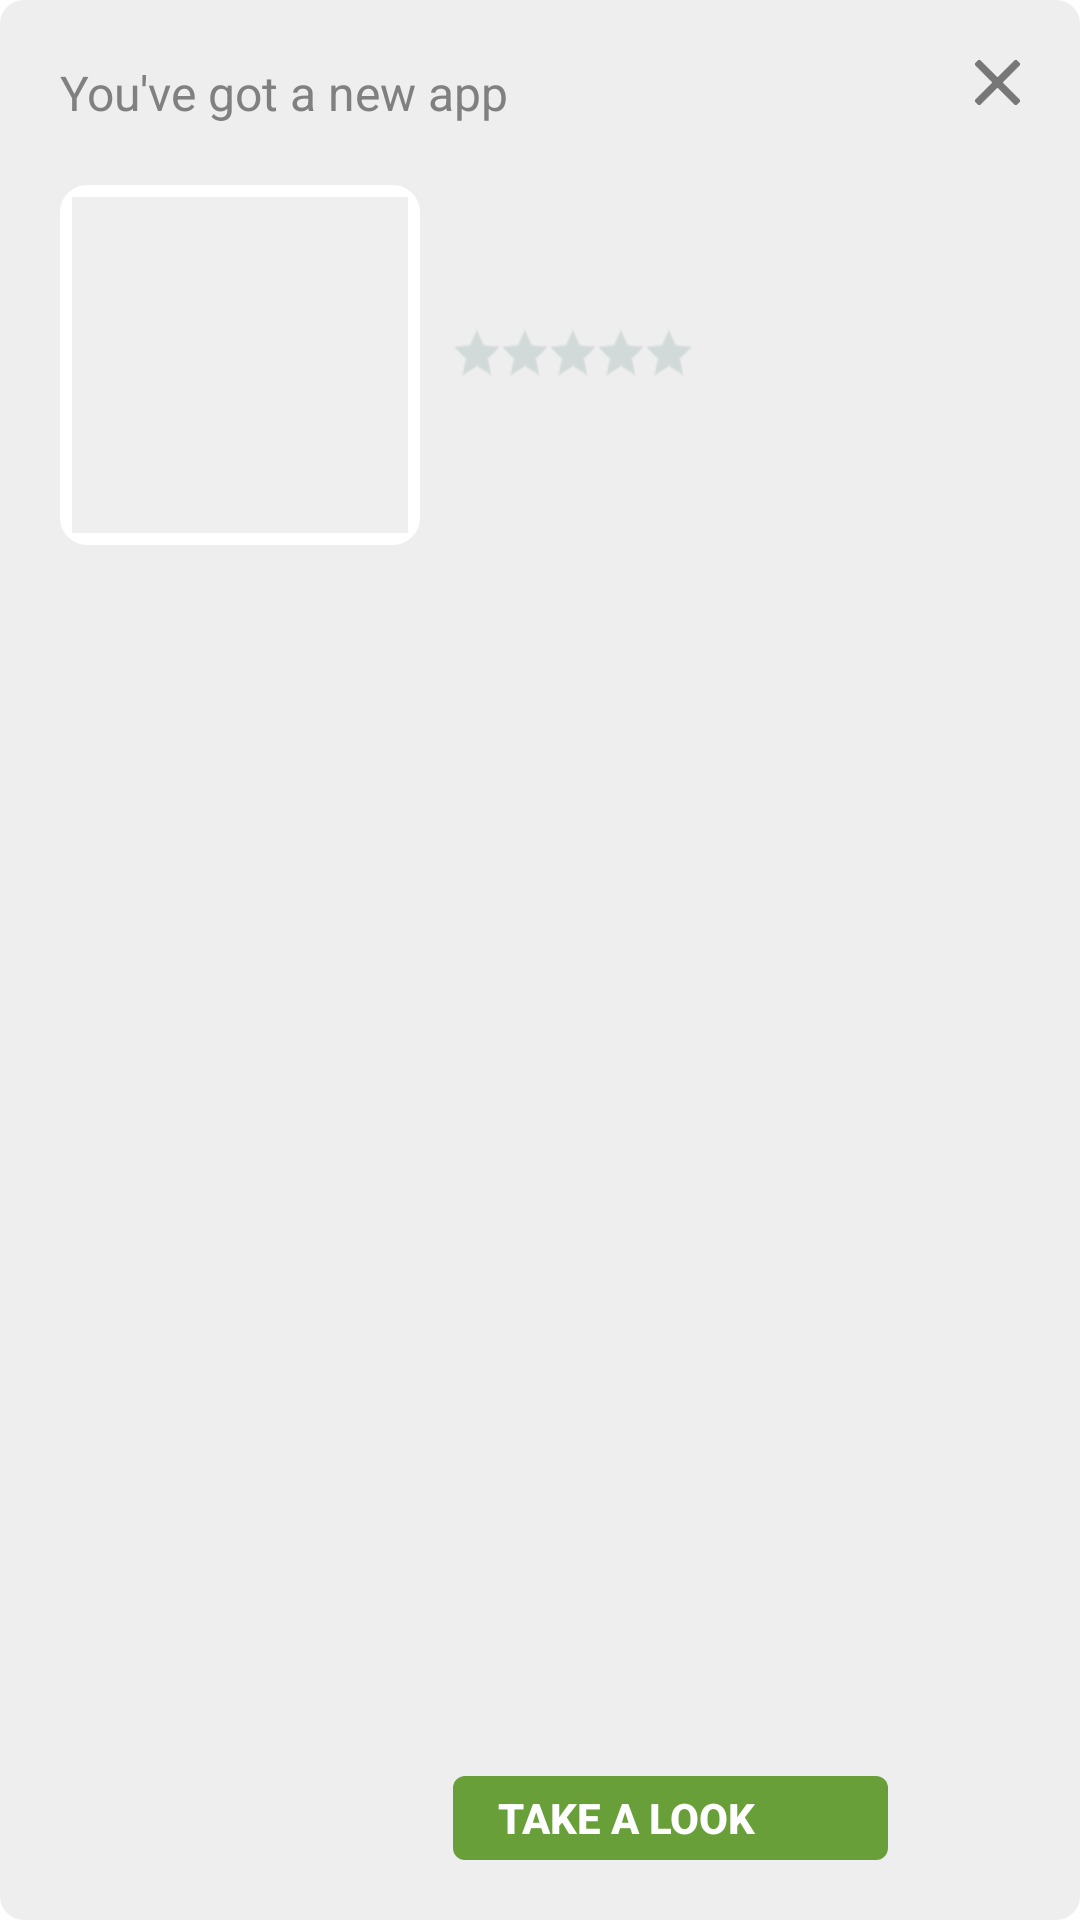

Icon bounding boxes for this 1080w x 1920h phone screenshot, format (x1, y1, x2, y2):
close: (975, 60, 1020, 105)
